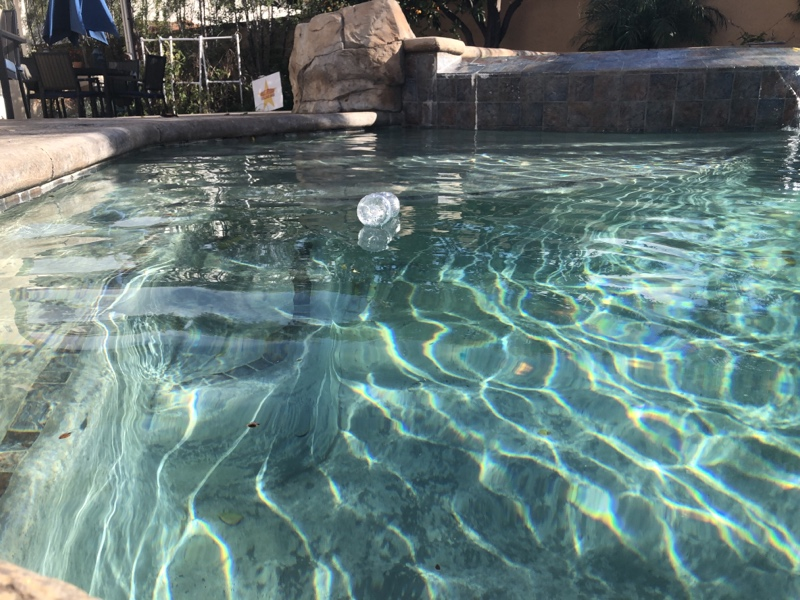Plastic Bottle: (351, 191, 404, 227)
